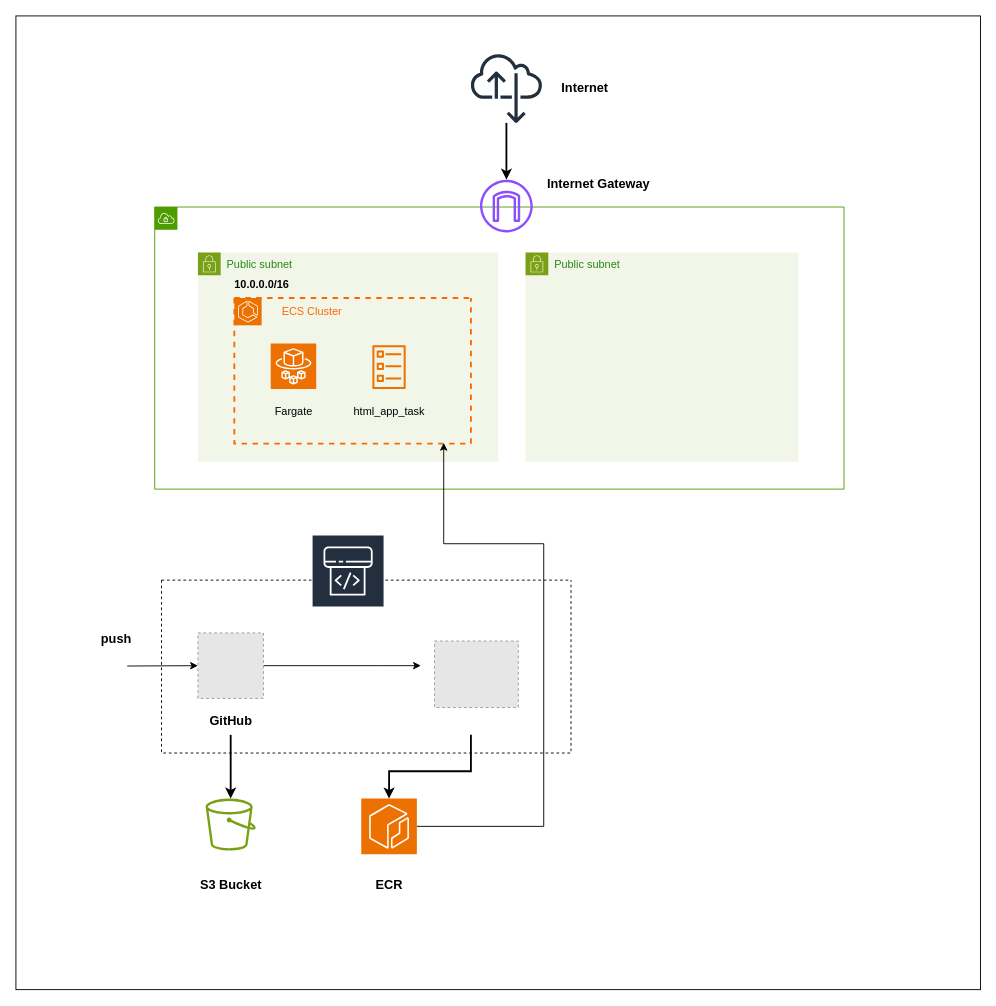
Some shapes in this 996 by 1006 pixel diagram are drawn without their labels. Grey dashed boxes stand in for pictures. The box of each missing label's shape, as (x1, y1, x2, y2) in pixels:
AWS CodePipeline: (311, 534, 384, 635)
VPC: (154, 206, 844, 489)
